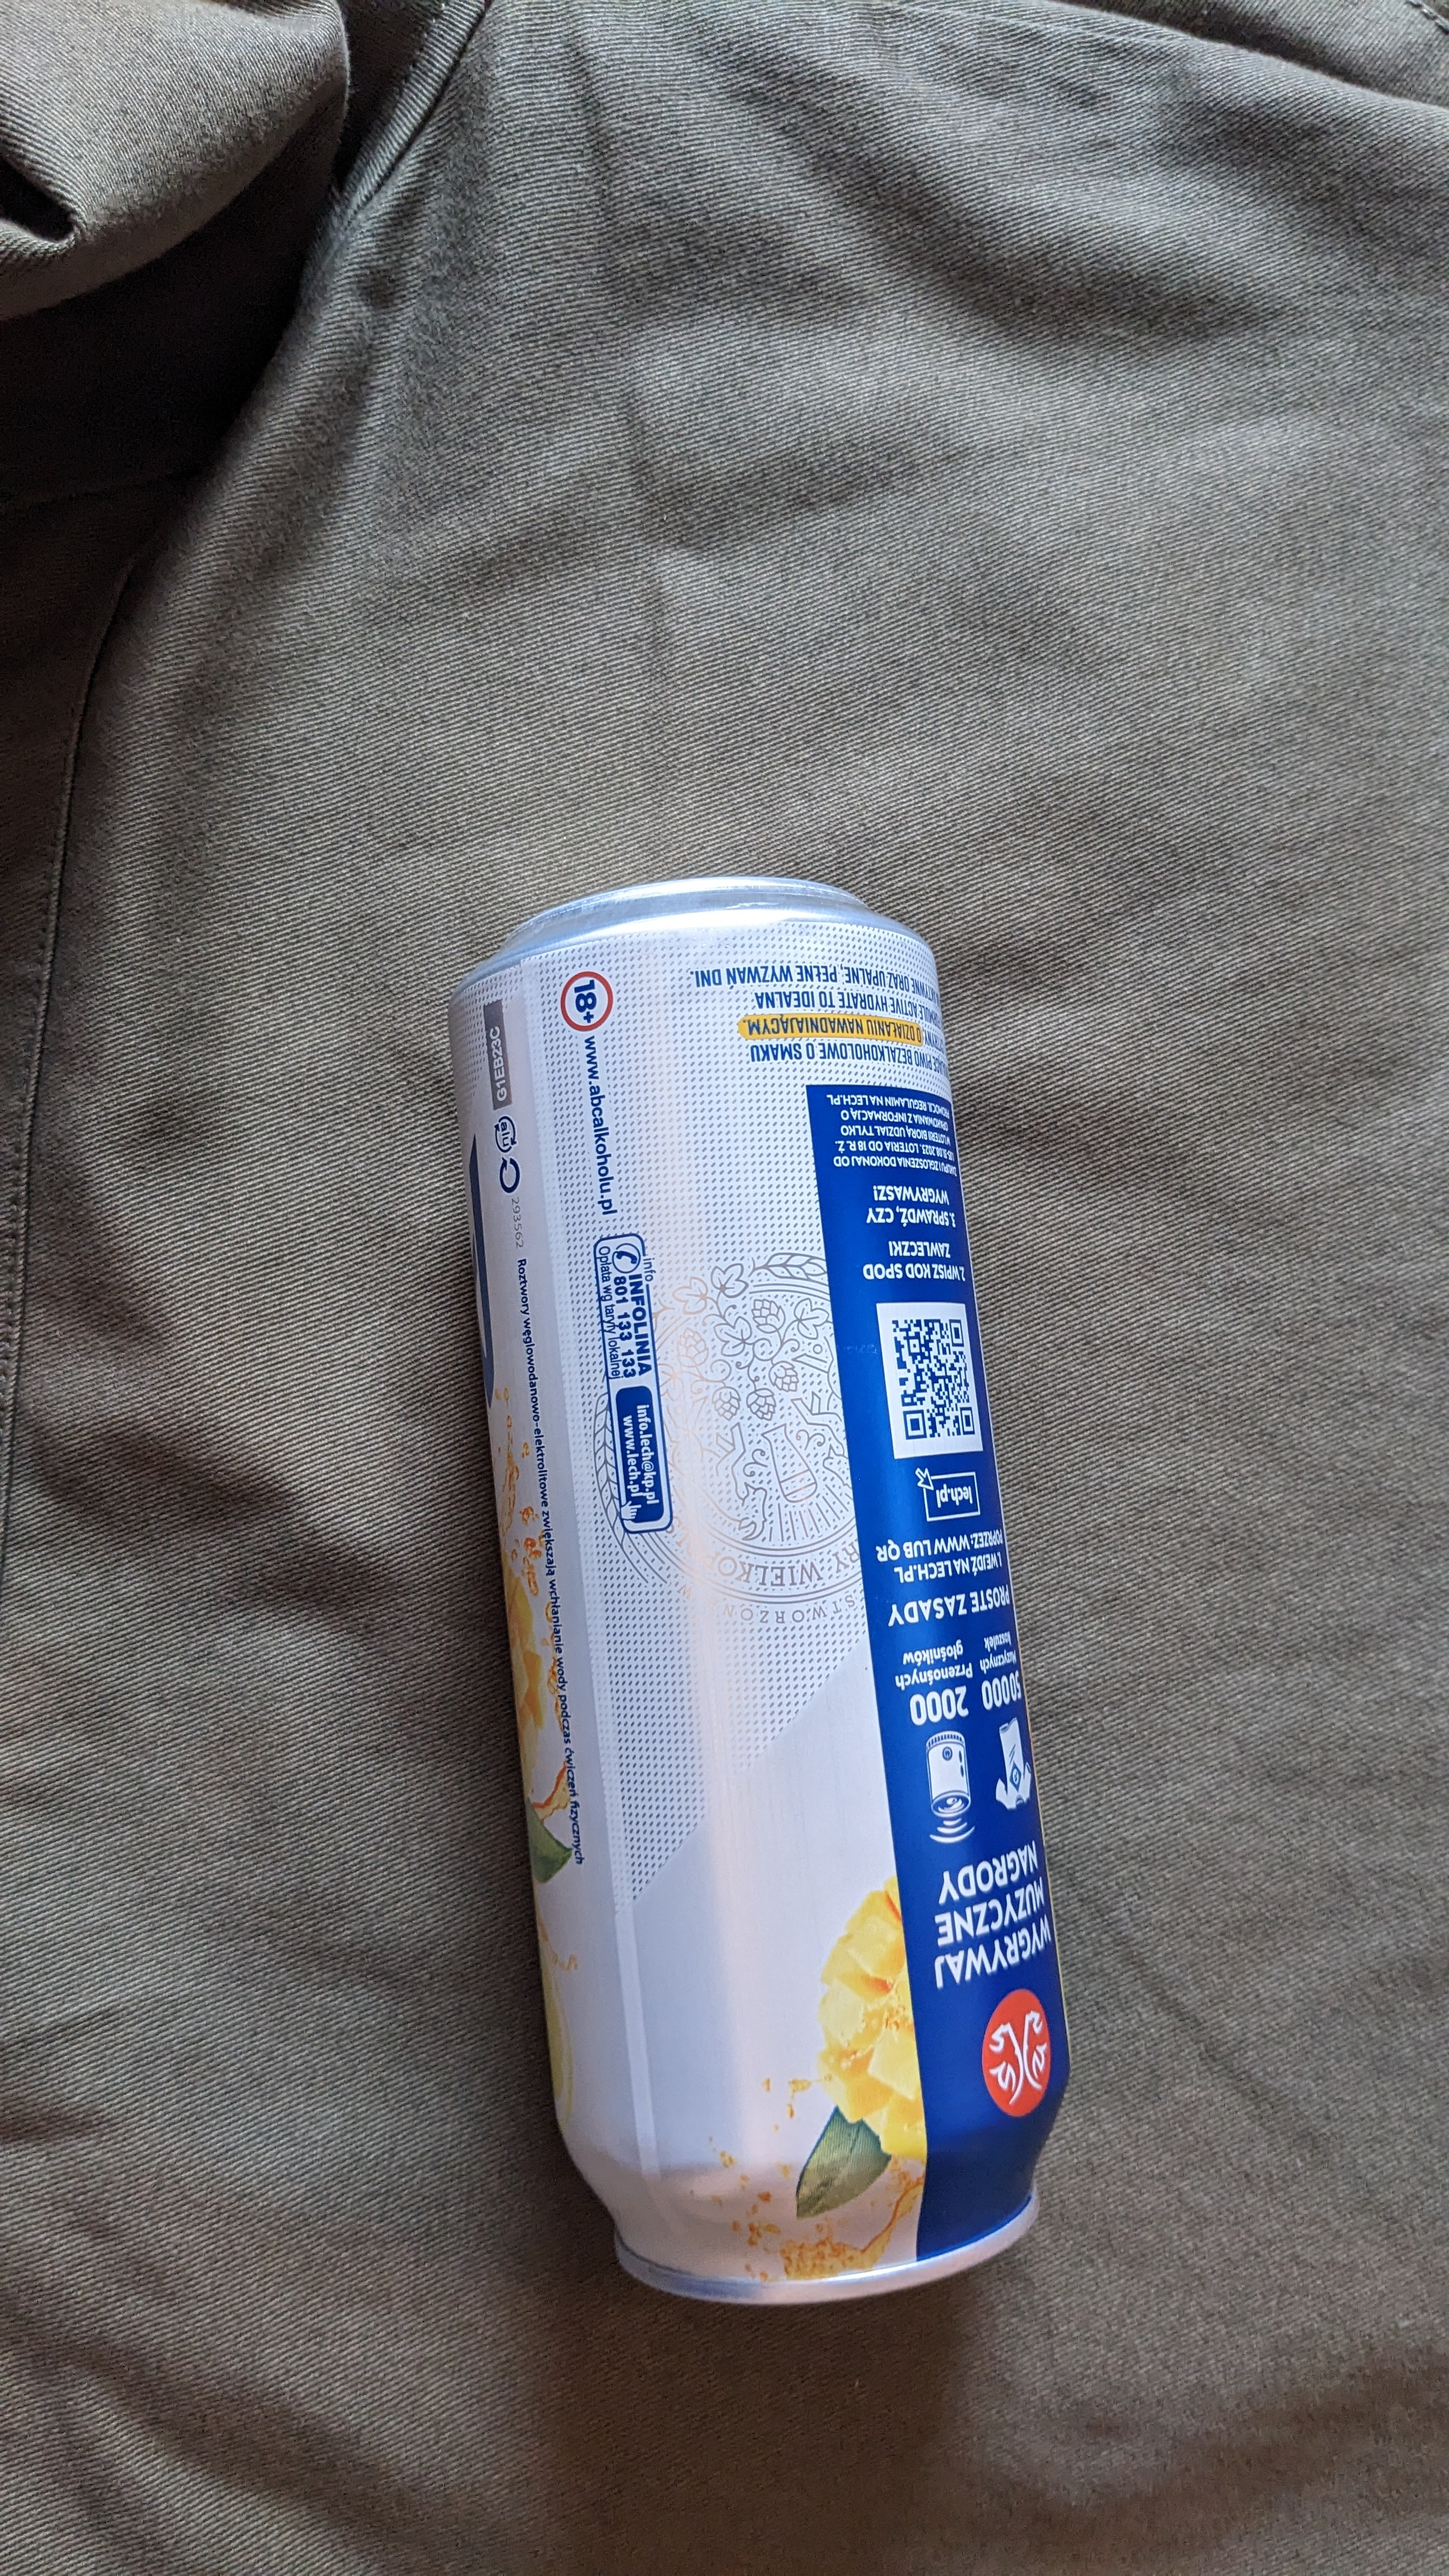lech-active: (396, 835, 1141, 2346)
